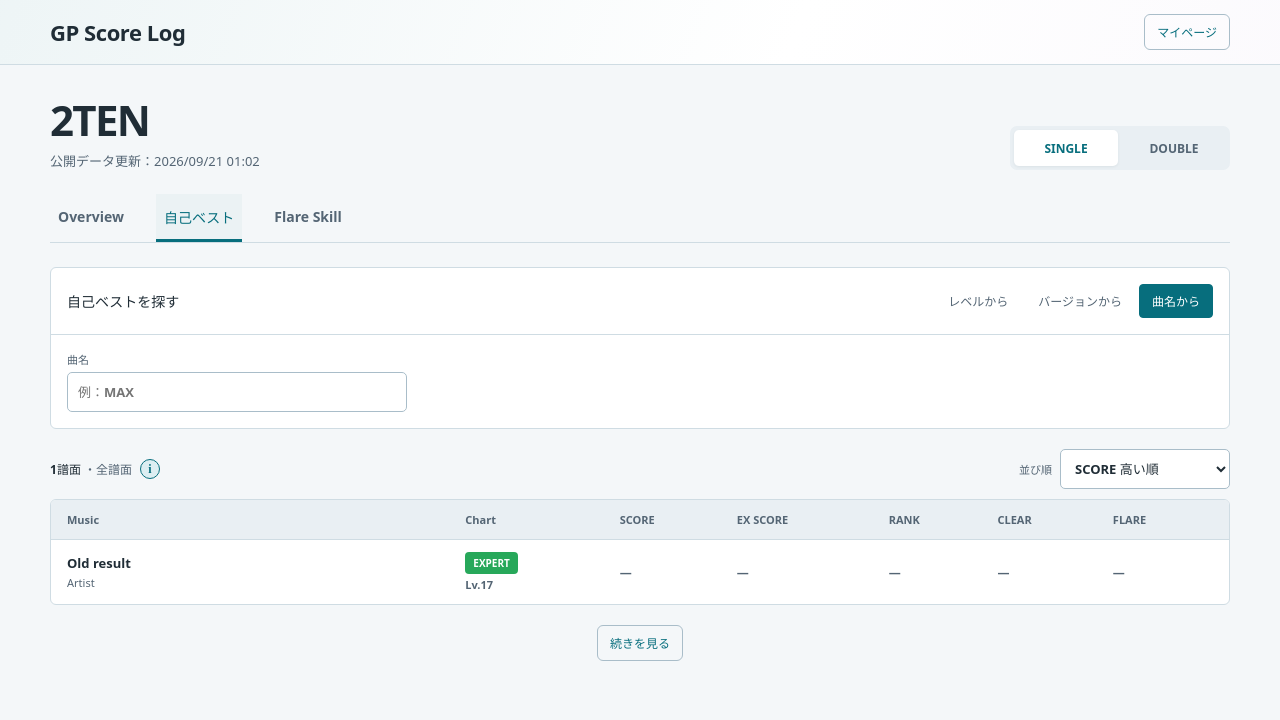
Test case: PlayerApp › ignores an old load-more retry after sort changes
Expected: the text "Old result" is shown, [67, 554, 131, 572]
Step 1. Click the button "続きを見る" → (640, 643), box [597, 625, 683, 661]
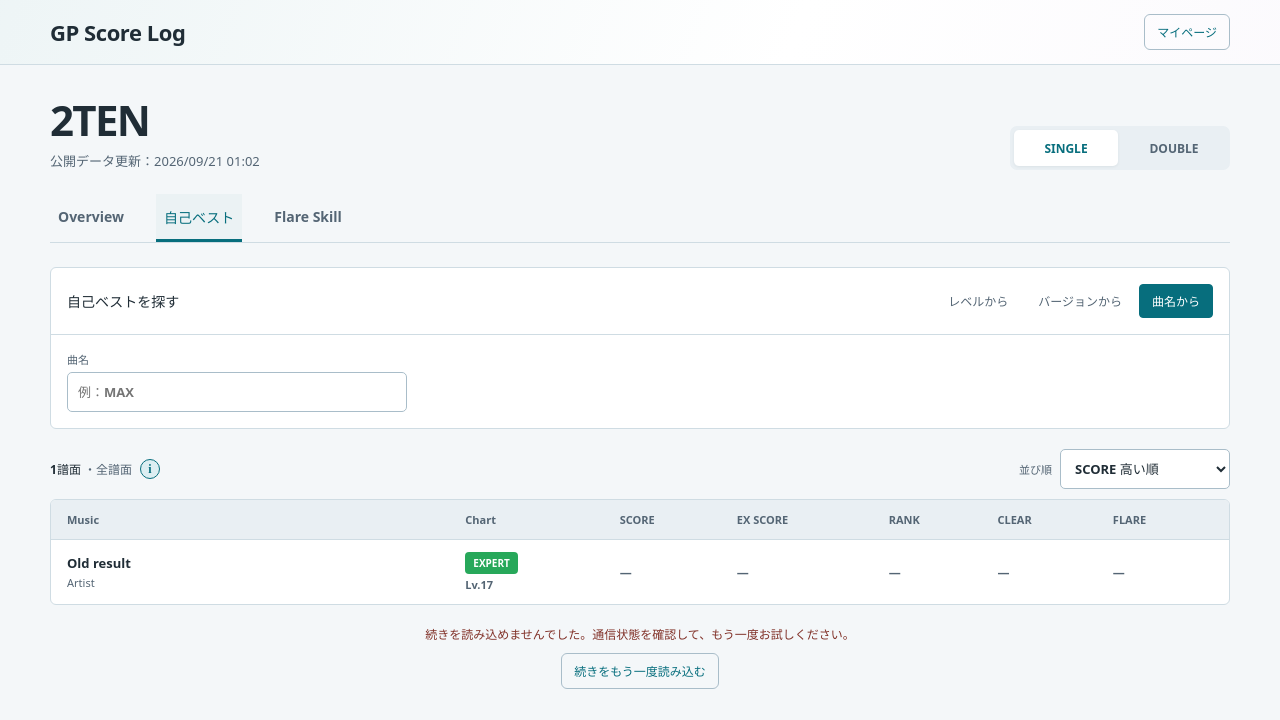
Expected: the text "Old result" is shown, [67, 554, 131, 572]
Now the message shows "続きを読み込めませんでした", box [425, 626, 855, 643]
Step 2. Click the button "続きをもう一度読み込む" → (640, 671), box [561, 653, 719, 689]
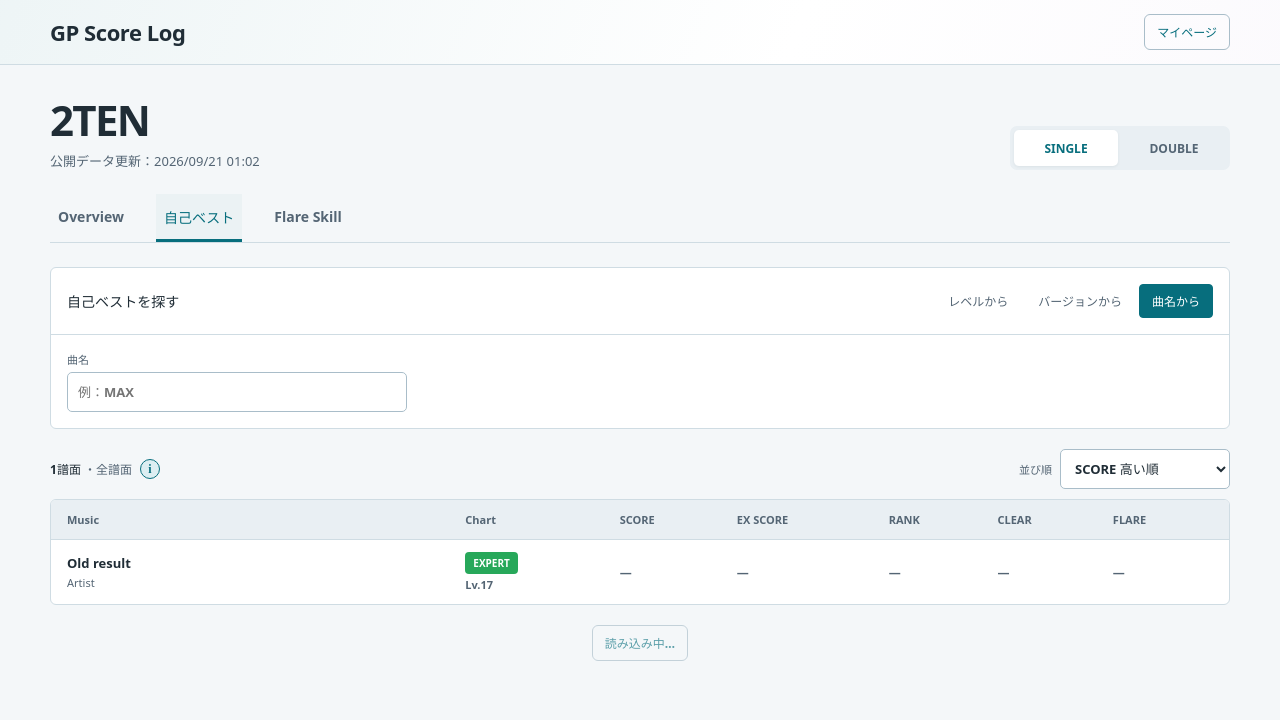
Step 3. Select "曲名 昇順" in the dropdown labelled "並び順" → (1145, 469), box [1060, 449, 1230, 489]
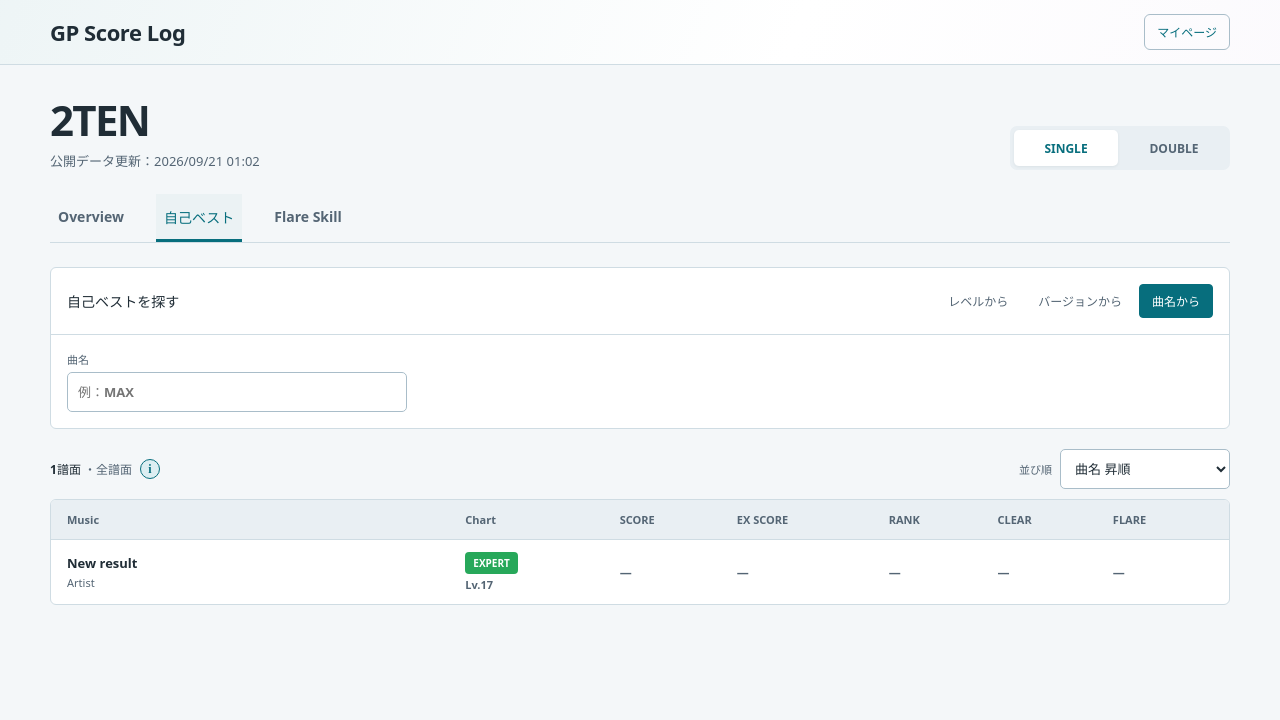
Expected: the message "続きを読み込めませんでした。通信状態を確認して、もう一度お試しください。" is not shown
Now the text "New result" is shown, box [67, 554, 137, 572]
